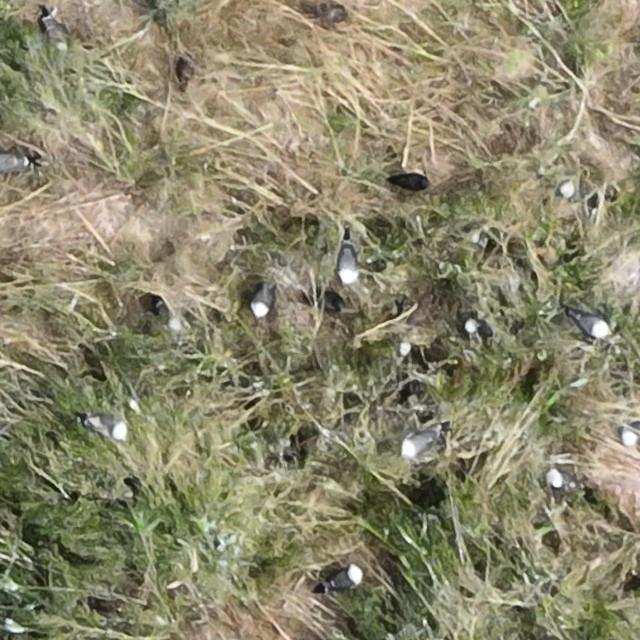umineko: (547, 471, 593, 499), (44, 12, 68, 52), (86, 414, 126, 437), (157, 299, 183, 333), (402, 433, 436, 456), (576, 312, 608, 336), (328, 568, 360, 591), (338, 246, 358, 282), (253, 286, 273, 317), (396, 317, 412, 350), (464, 315, 492, 333), (1, 154, 26, 172), (622, 424, 639, 444)
